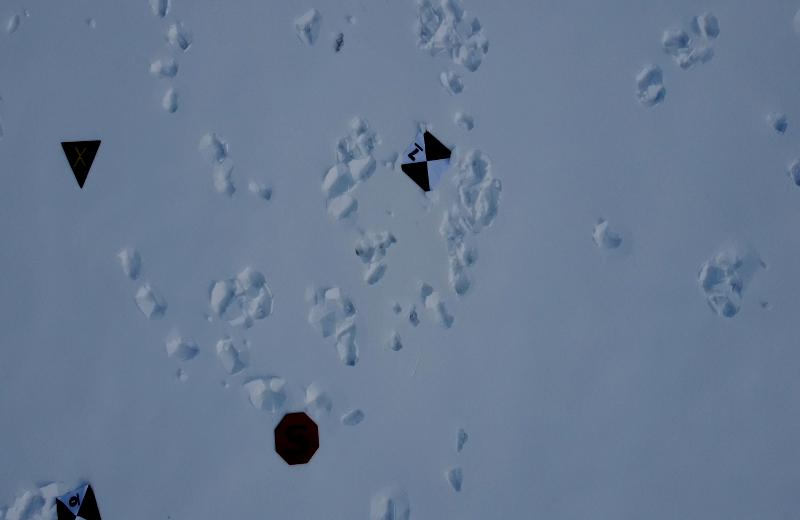Octagon: (275, 411, 322, 466)
Triangle: (60, 138, 101, 192)
